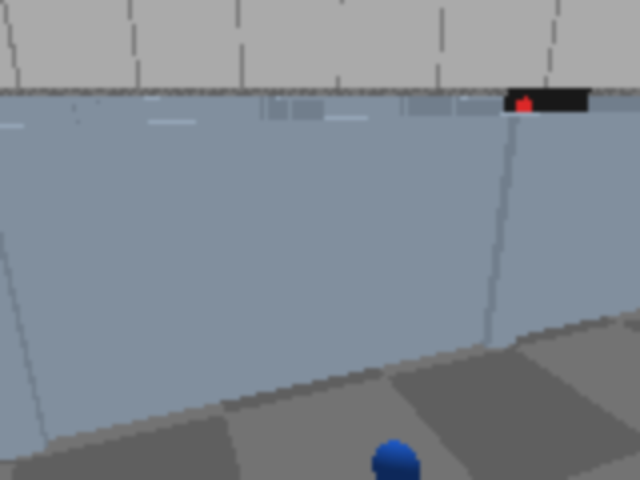puck: (365, 426, 427, 478)
